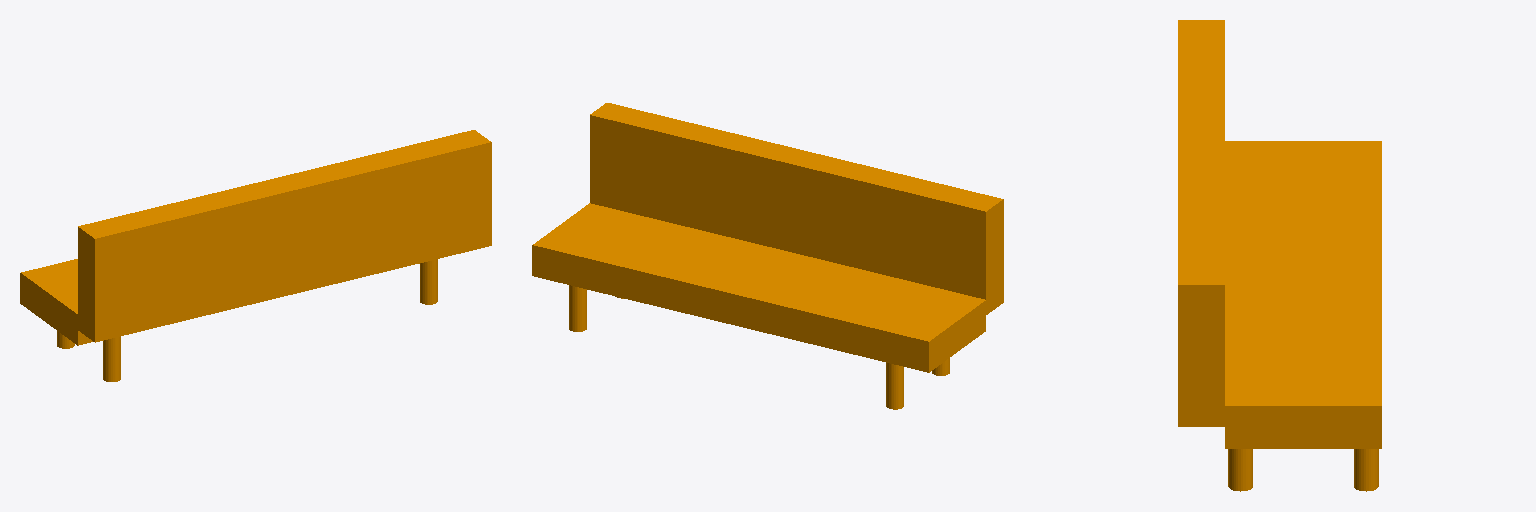
The robot description file, URDF, robot "sofa":
<?xml version="1.0"?>
<robot name="sofa">
    <!-- Colors -->
    <material name="red">
        <color rgba="0.937 0.608 0.0 1"/>
    </material>

    <!-- sofa -->
    <link name="seat">
        <visual>
            <geometry>
                <box size="2 0.5 0.15" />
                <origin rpy="0 0 0" xyz="0 0 0"/>
            </geometry>
            <material name="red"/>
        </visual>
        <collision>
             <geometry>
                <box size="2 0.5 0.15" />
                <origin rpy="0 0 0" xyz="0 0 0"/>
            </geometry>
        </collision>
        <inertial>
            <mass value="0"/>
            <inertia ixx="0" ixy="0" ixz="0" iyy="0" iyz="0" izz="0"/>
        </inertial>
    </link>

    <link name="back">
        <visual>
            <geometry>
                <box size="2 0.15 0.5" />
                <origin rpy="0 0 0" xyz="0 0 0"/>
            </geometry>
            <material name="red"/>
        </visual>
        <collision>
             <geometry>
                <box size="2 0.15 0.5" />
                <origin rpy="0 0 0" xyz="0 0 0"/>
            </geometry>
        </collision>
        <inertial>
            <mass value="0"/>
            <inertia ixx="0" ixy="0" ixz="0" iyy="0" iyz="0" izz="0"/>
        </inertial>
    </link>

    <link name="cylinder_1">
        <visual>
            <geometry>
                <cylinder length="0.3" radius="0.04"/>
                <origin rpy="0 0 0" xyz="0 0 0"/>
            </geometry>
            <material name="red"/>
        </visual>
        <collision>
             <geometry>
                <cylinder length="0.3" radius="0.04"/>
                <origin rpy="0 0 0" xyz="0 0 0"/>
            </geometry>
        </collision>
        <inertial>
            <mass value="0"/>
            <inertia ixx="0" ixy="0" ixz="0" iyy="0" iyz="0" izz="0"/>
        </inertial>
    </link>

    <link name="cylinder_2">
        <visual>
            <geometry>
                <cylinder length="0.3" radius="0.04"/>
                <origin rpy="0 0 0" xyz="0 0 0"/>
            </geometry>
            <material name="red"/>
        </visual>
        <collision>
             <geometry>
                <cylinder length="0.3" radius="0.04"/>
                <origin rpy="0 0 0" xyz="0 0 0"/>
            </geometry>
        </collision>
        <inertial>
            <mass value="0"/>
            <inertia ixx="0" ixy="0" ixz="0" iyy="0" iyz="0" izz="0"/>
        </inertial>
    </link>

    <link name="cylinder_3">
        <visual>
            <geometry>
                <cylinder length="0.3" radius="0.04"/>
                <origin rpy="0 0 0" xyz="0 0 0"/>
            </geometry>
            <material name="red"/>
        </visual>
        <collision>
             <geometry>
                <cylinder length="0.3" radius="0.04"/>
                <origin rpy="0 0 0" xyz="0 0 0"/>
            </geometry>
        </collision>
        <inertial>
            <mass value="0"/>
            <inertia ixx="0" ixy="0" ixz="0" iyy="0" iyz="0" izz="0"/>
        </inertial>
    </link>


    <link name="cylinder_4">
        <visual>
            <geometry>
                <cylinder length="0.3" radius="0.04"/>
                <origin rpy="0 0 0" xyz="0 0 0"/>
            </geometry>
            <material name="red"/>
        </visual>
        <collision>
             <geometry>
                <cylinder length="0.3" radius="0.04"/>
                <origin rpy="0 0 0" xyz="0 0 0"/>
            </geometry>
        </collision>
        <inertial>
            <mass value="0"/>
            <inertia ixx="0" ixy="0" ixz="0" iyy="0" iyz="0" izz="0"/>
        </inertial>
    </link>


    <joint name="back_to_seat" type="fixed">
      <parent link="seat"/>
      <child link="back"/>
      <origin xyz="0 -0.325 0.25"/>
    </joint>

    <joint name="cylinder_1_to_seat" type="fixed">
      <parent link="seat"/>
      <child link="cylinder_1"/>
      <origin xyz="0.8 -0.2 -0.15"/>
    </joint>

    <joint name="cylinder_2_to_seat" type="fixed">
      <parent link="seat"/>
      <child link="cylinder_2"/>
      <origin xyz="0.8 0.2 -0.15"/>
    </joint>

    <joint name="cylinder_3_to_seat" type="fixed">
      <parent link="seat"/>
      <child link="cylinder_3"/>
      <origin xyz="-0.8 0.2 -0.15"/>
    </joint>

    <joint name="cylinder_4_to_seat" type="fixed">
      <parent link="seat"/>
      <child link="cylinder_4"/>
      <origin xyz="-0.8 -0.2 -0.15"/>
    </joint>

</robot>

--- What the picture shows (computed from the rendered views, not written in the file) ---
3 views of the same robot in one strip: view 1: azimuth 30°, elevation 25°; view 2: azimuth 150°, elevation 25°; view 3: azimuth 270°, elevation 25° (orthographic).
Robot: sofa — 6 links, 5 joints (5 fixed); root link seat; default pose: every joint at zero.
Visible links, largest first — view 1: back, seat, cylinder_4, cylinder_1; view 2: back, seat, cylinder_3, cylinder_2; view 3: seat, back, cylinder_1, cylinder_2.
Link boxes in pixels (left/top/right/bottom): back: left=78, top=130, right=491, bottom=342; seat: left=20, top=259, right=92, bottom=345; cylinder_4: left=103, top=336, right=120, bottom=381; cylinder_1: left=420, top=259, right=437, bottom=304; back: left=590, top=103, right=1003, bottom=314; seat: left=532, top=203, right=985, bottom=372; cylinder_3: left=886, top=363, right=903, bottom=409; cylinder_2: left=569, top=285, right=586, bottom=331; seat: left=1225, top=141, right=1381, bottom=448; back: left=1178, top=20, right=1224, bottom=426; cylinder_1: left=1228, top=449, right=1252, bottom=491; cylinder_2: left=1354, top=449, right=1378, bottom=491.
Bounding box of the posed robot: 2 × 0.65 × 0.8 m (x, y, z).
Geometry: primitives only (box / cylinder / sphere), no mesh files.